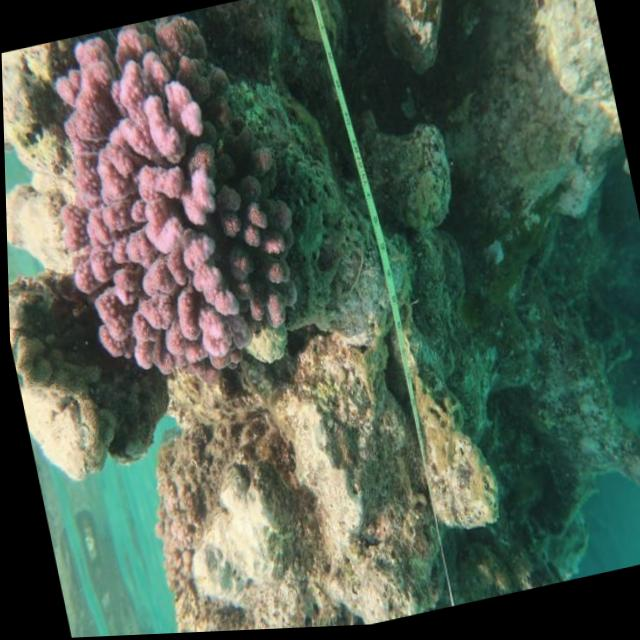Healthy Coral: (21, 0, 320, 409)
